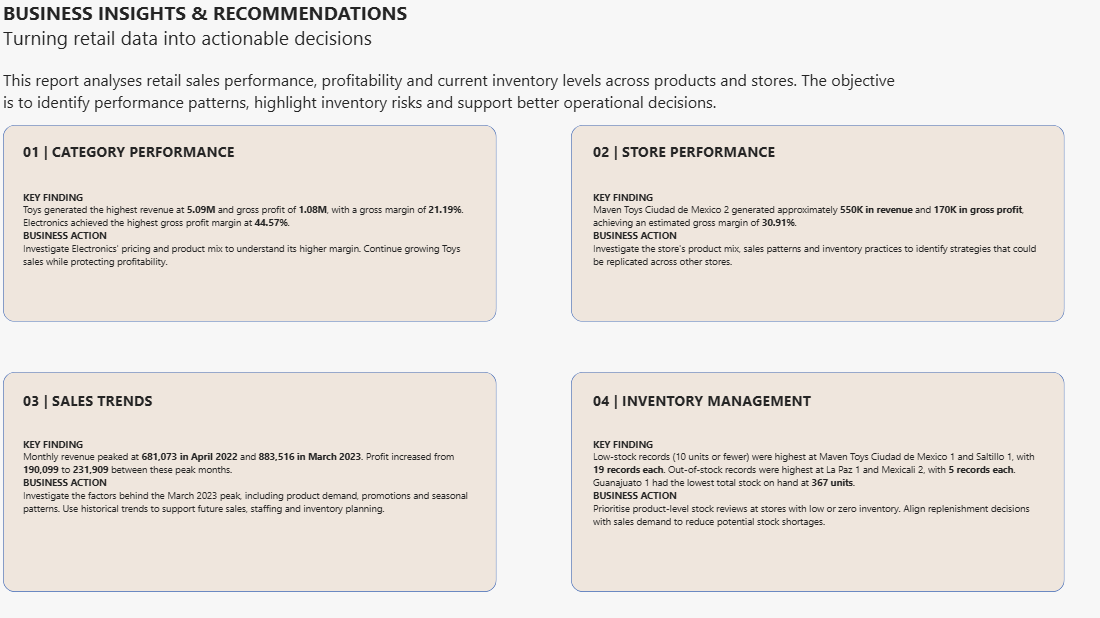

Layout of this report page (visuals, bound fields, positions):
{"tool":"powerbi","page":{"name":"Business Insights & Recommendations","canvas":[1920,1080],"ordinal":3},"visuals":[{"type":"textbox","box":[10,0,735.9,117.1],"z":0},{"type":"textbox","box":[10,117.1,1772.8,93.7],"z":1000},{"type":"shape","box":[960,210.8,825.4,327.5],"z":2000},{"type":"shape","box":[9,623.6,825.4,367.9],"z":3000},{"type":"shape","box":[9,210.8,825.4,327.5],"z":4000},{"type":"shape","box":[960,623.6,825.4,367.9],"z":5000},{"type":"textbox","box":[43.5,237.5,612.1,63.6],"z":6000},{"type":"textbox","box":[996.8,237.5,598.7,63.6],"z":7000},{"type":"textbox","box":[43.5,652.3,612.1,60.2],"z":8000},{"type":"textbox","box":[996.8,652.3,598.7,60.2],"z":9000},{"type":"textbox","box":[44.9,300.6,749.2,188.4],"z":10000},{"type":"textbox","box":[43.5,712.5,752.6,210.7],"z":10001},{"type":"textbox","box":[996.8,301,742.6,190.7],"z":10002},{"type":"textbox","box":[996.8,712.5,745.9,210.7],"z":10003}]}

Visuals, with their boxes in screenshot pixels (x1, y1, x2, y2), scaled from the page's 1920x1080 canvas onto the 1100x618 screenshot:
textbox: 6:0:427:67
textbox: 6:67:1021:121
shape: 550:121:1023:308
shape: 5:357:478:567
shape: 5:121:478:308
shape: 550:357:1023:567
textbox: 25:136:376:172
textbox: 571:136:914:172
textbox: 25:373:376:408
textbox: 571:373:914:408
textbox: 26:172:455:280
textbox: 25:408:456:528
textbox: 571:172:997:281
textbox: 571:408:998:528
